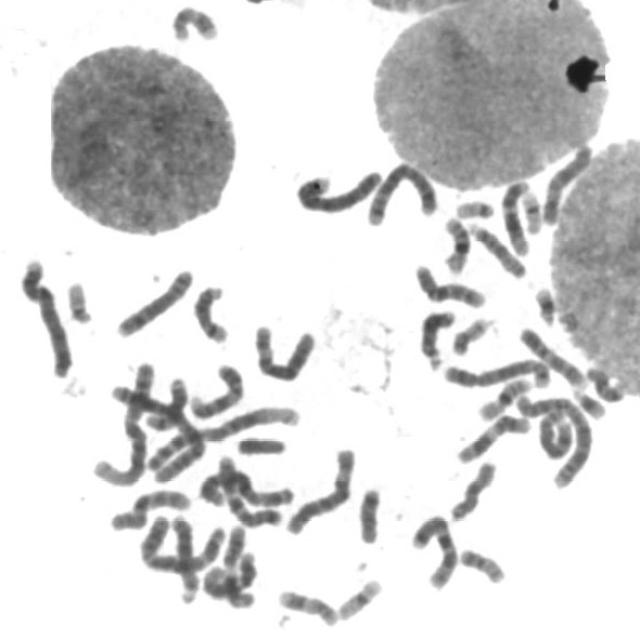A1: (141, 399, 304, 479), (88, 356, 159, 488)
A2: (106, 378, 210, 484), (511, 386, 598, 490)
A3: (133, 508, 230, 574), (193, 465, 298, 510)
B4: (15, 251, 77, 378), (290, 161, 387, 215)
B5: (361, 156, 443, 227), (438, 352, 556, 391)
C10: (104, 481, 194, 532), (409, 256, 491, 309)
C11: (451, 406, 535, 465), (219, 522, 258, 620)
C12: (198, 545, 262, 601), (497, 173, 535, 257)
C6: (281, 440, 360, 536), (248, 317, 321, 384)
C7: (212, 448, 288, 530), (406, 506, 462, 591)
C8: (110, 260, 198, 340), (534, 402, 577, 461)
C9: (514, 320, 591, 389), (184, 356, 248, 420)
D13: (166, 507, 204, 604), (415, 302, 460, 371)
D14: (141, 368, 191, 432), (188, 277, 233, 345)
D15: (463, 214, 532, 280), (445, 453, 501, 523)
E16: (473, 369, 535, 422), (438, 208, 475, 276)
E17: (273, 582, 342, 628), (166, 0, 222, 43)
E18: (354, 479, 386, 545), (583, 359, 629, 403)
F19: (333, 570, 386, 622), (515, 182, 547, 235)
F20: (454, 539, 510, 586), (447, 309, 498, 357)
G21: (567, 380, 610, 420), (529, 279, 561, 327)
G22: (60, 274, 96, 324), (451, 192, 498, 220)
X: (537, 137, 597, 226)
Y: (231, 428, 290, 457)
